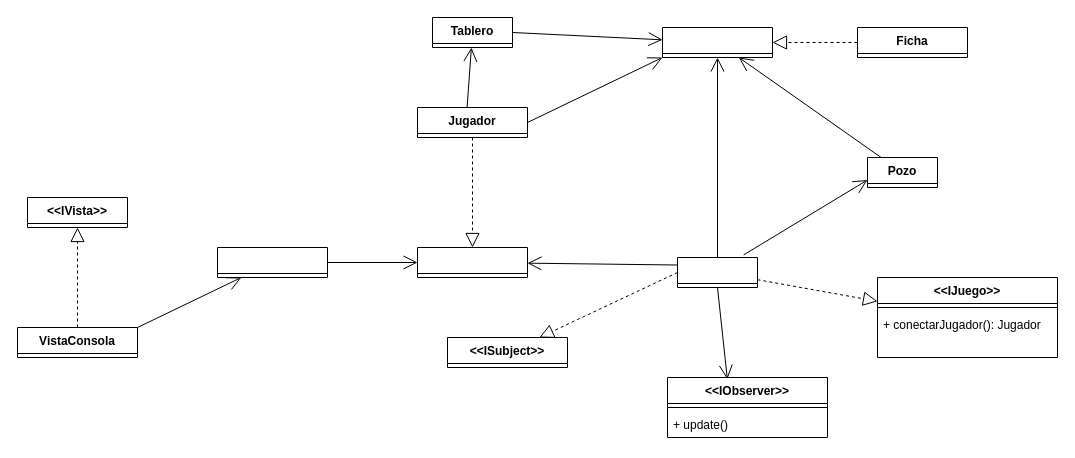
The diagram is 1075 pixels wide and 458 high, and some of its shapes have lost their labels. The centre of each missing label's shape, as x and y in pixels:
<<IFicha>>: point 717,42
<<IJugador>>: point 472,262
Controlador: point 272,262
Juego: point 717,272
